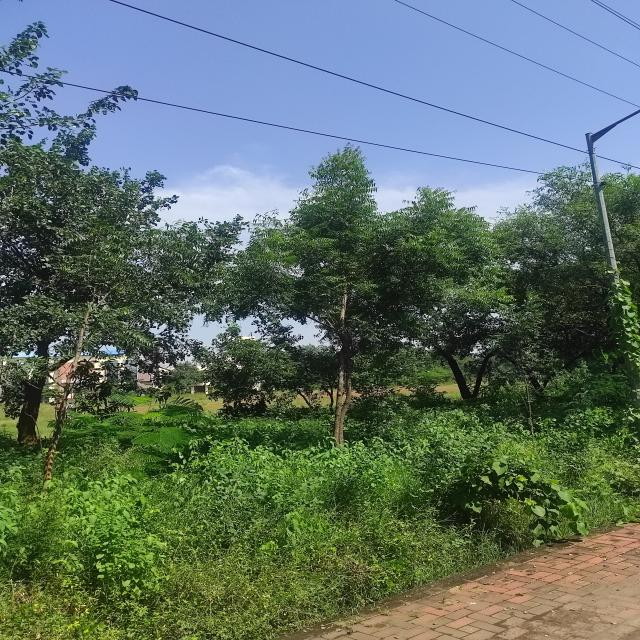Devakanchan tree: (1, 165, 168, 433)
Neem Tree: (237, 179, 501, 426), (533, 215, 591, 402)
